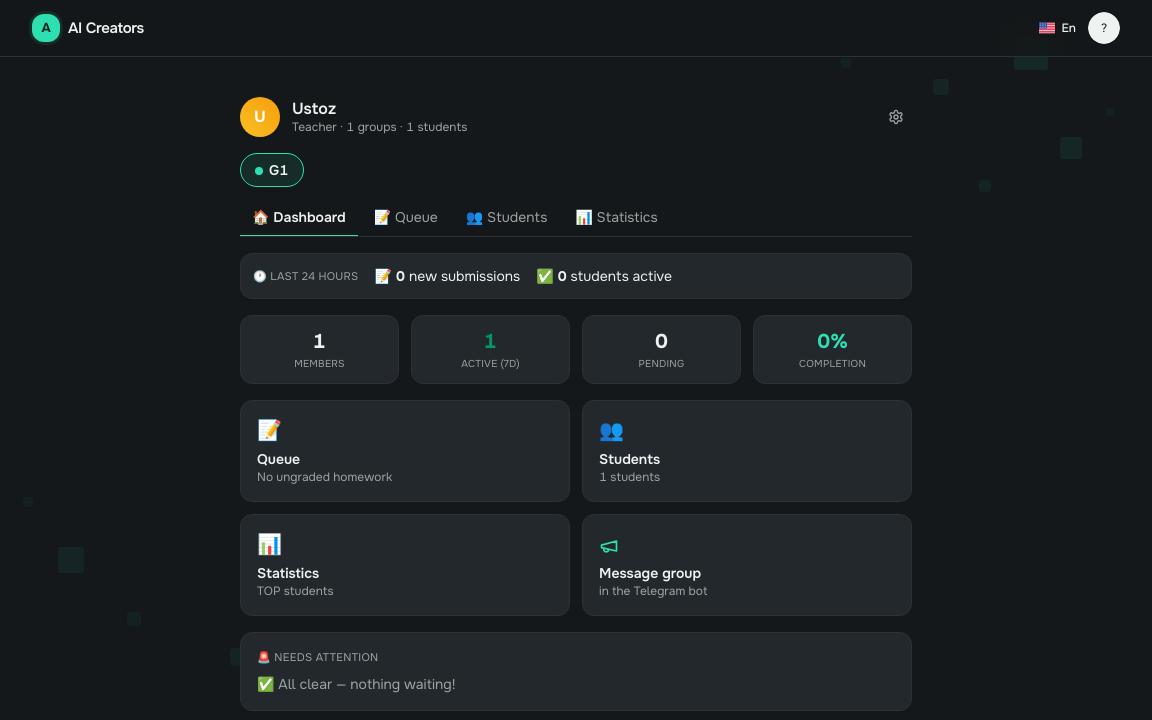
Test case: TeacherProfile grading queue — capped page indicator › genuinely empty → the 🎉 empty state, no beacon
Click the tab "📝 Queue": x=406, y=222 left=362, top=207, right=450, bottom=237
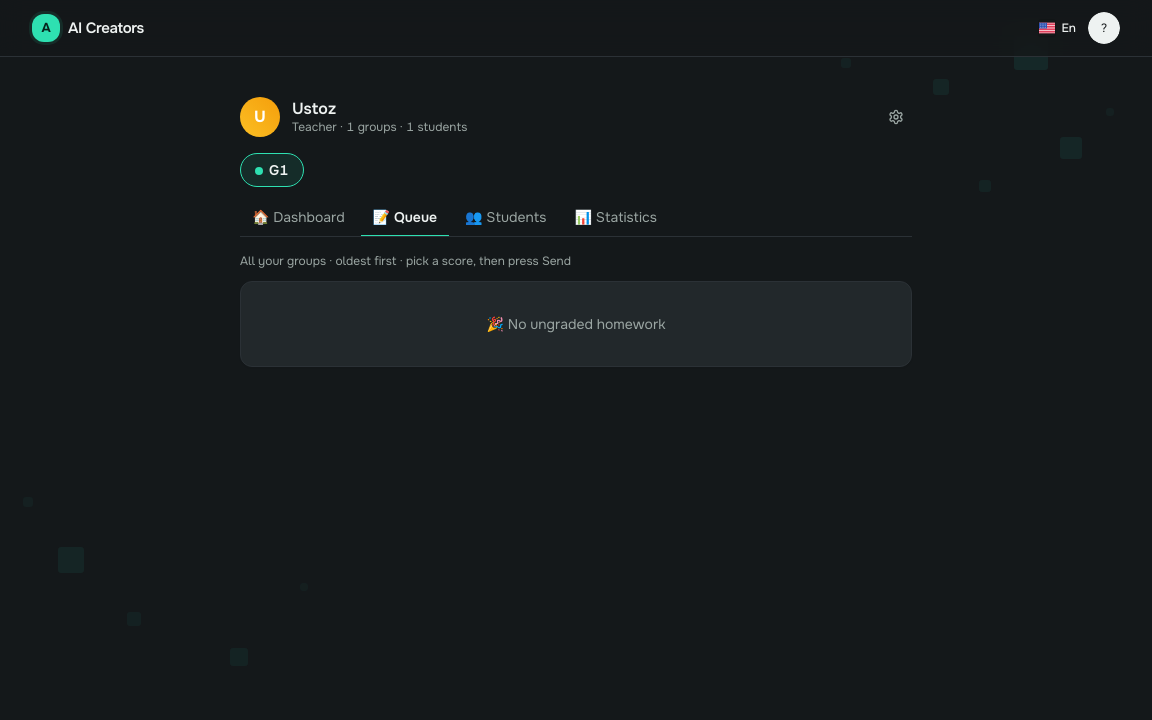
Check: the text "🎉 No ungraded homework" is shown, box left=240, top=281, right=912, bottom=367
